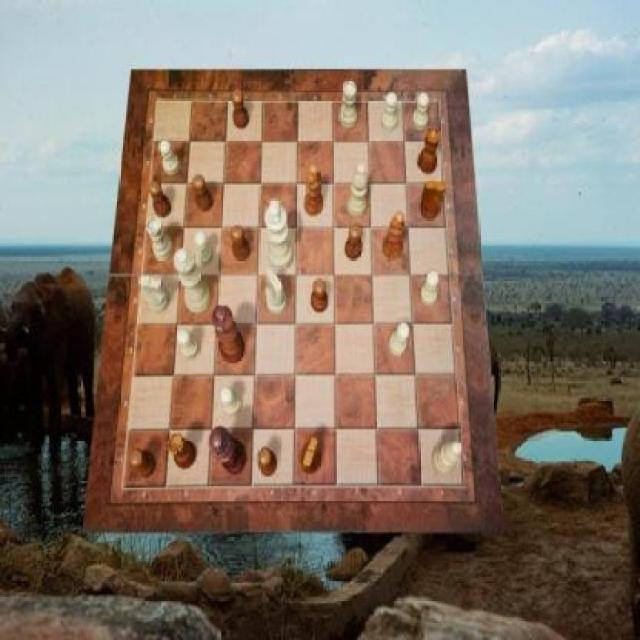bishop: (383, 211, 406, 260), (304, 165, 324, 217)
black-bishop: (209, 428, 247, 475)
black-king: (418, 180, 446, 220), (298, 437, 321, 475)
black-knight: (150, 182, 172, 219), (129, 449, 156, 478), (192, 176, 213, 212), (231, 224, 251, 260), (232, 91, 250, 131), (345, 224, 362, 260), (258, 448, 278, 477), (311, 278, 328, 312)
black-pawn: (212, 306, 246, 365)
black-queen: (418, 128, 442, 175), (168, 432, 197, 468)
black-rook: (348, 163, 368, 218), (432, 442, 462, 476)
white-bishop: (264, 200, 294, 272)
white-king: (140, 275, 171, 313), (265, 270, 287, 316)
white-knight: (158, 140, 181, 176), (177, 329, 200, 360), (412, 92, 430, 131), (420, 270, 439, 306), (194, 230, 213, 266), (220, 386, 242, 417), (391, 322, 411, 356), (382, 92, 398, 132)
white-pawn: (174, 248, 211, 314)
white-queen: (146, 217, 174, 261), (339, 80, 356, 128)
